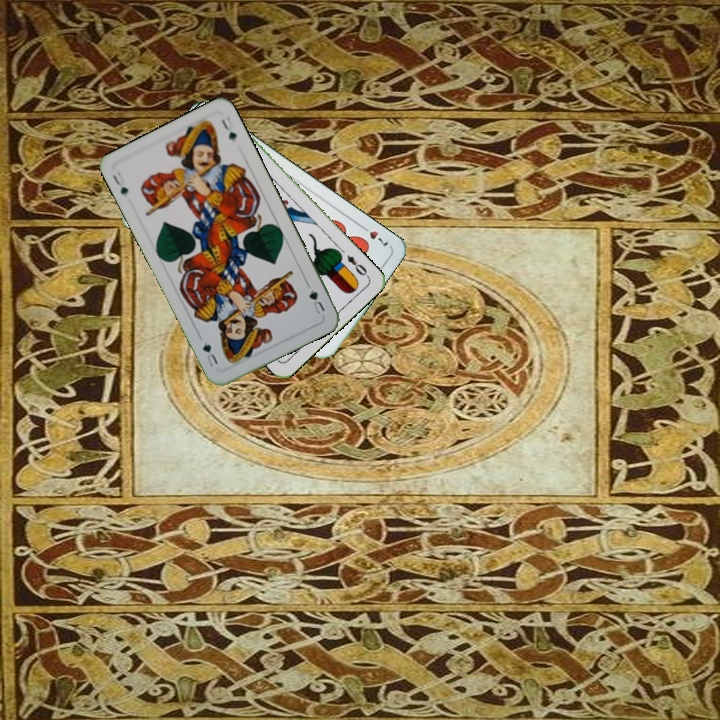EO: (343, 251, 372, 280)
GU: (305, 285, 328, 317), (108, 168, 131, 198)
H7: (356, 221, 391, 249)
